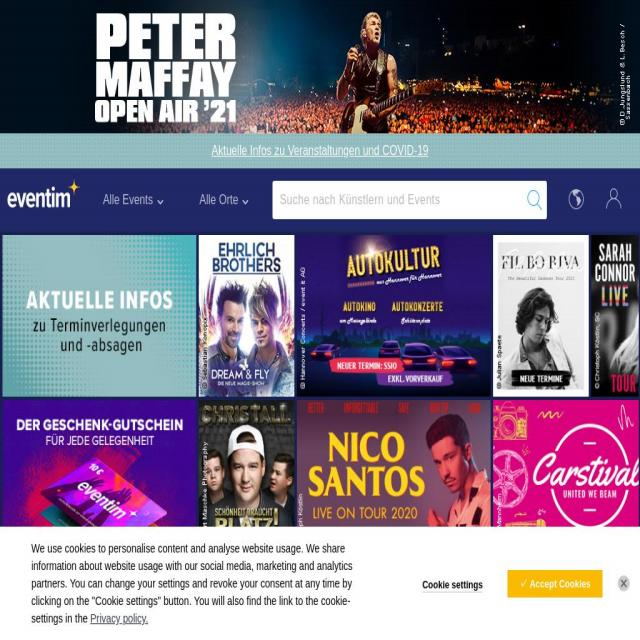language: (563, 177, 592, 220)
navigation-blocks: (6, 231, 631, 521)
options: (96, 184, 256, 216)
search: (265, 177, 555, 223)
